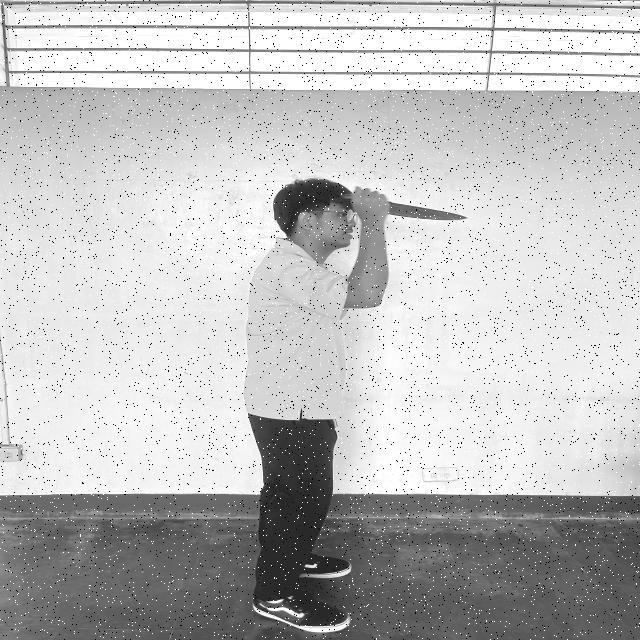knife: (346, 194, 466, 222)
non-violence: (245, 179, 466, 634)
